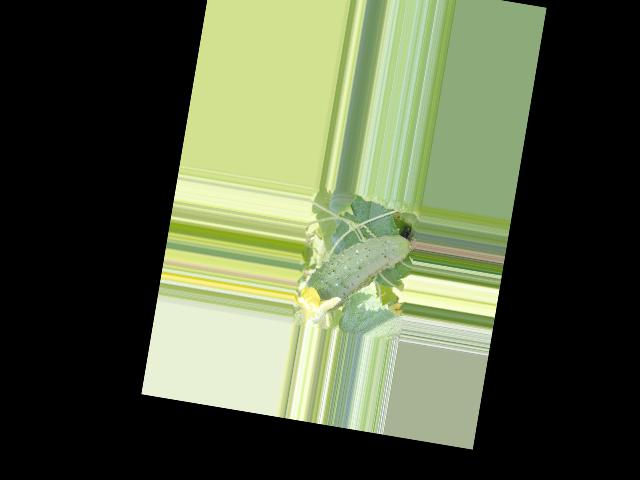cucumber: (302, 221, 417, 324)
